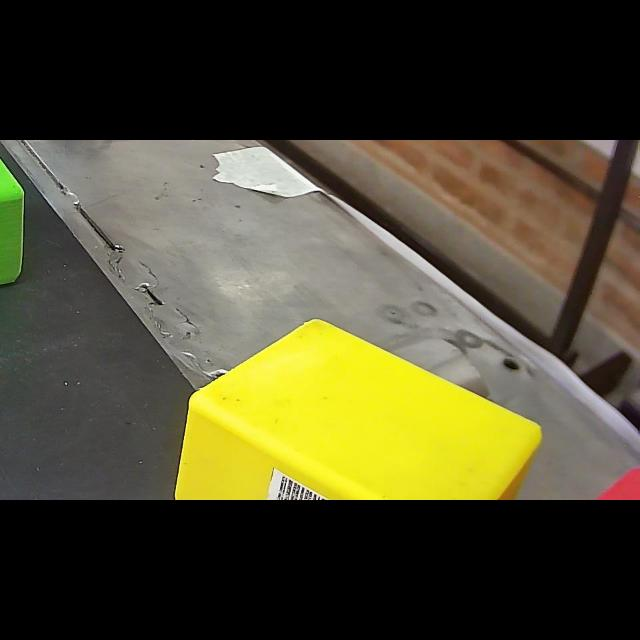greenBox: (0, 140, 40, 310)
yellowBox: (166, 316, 550, 499)
